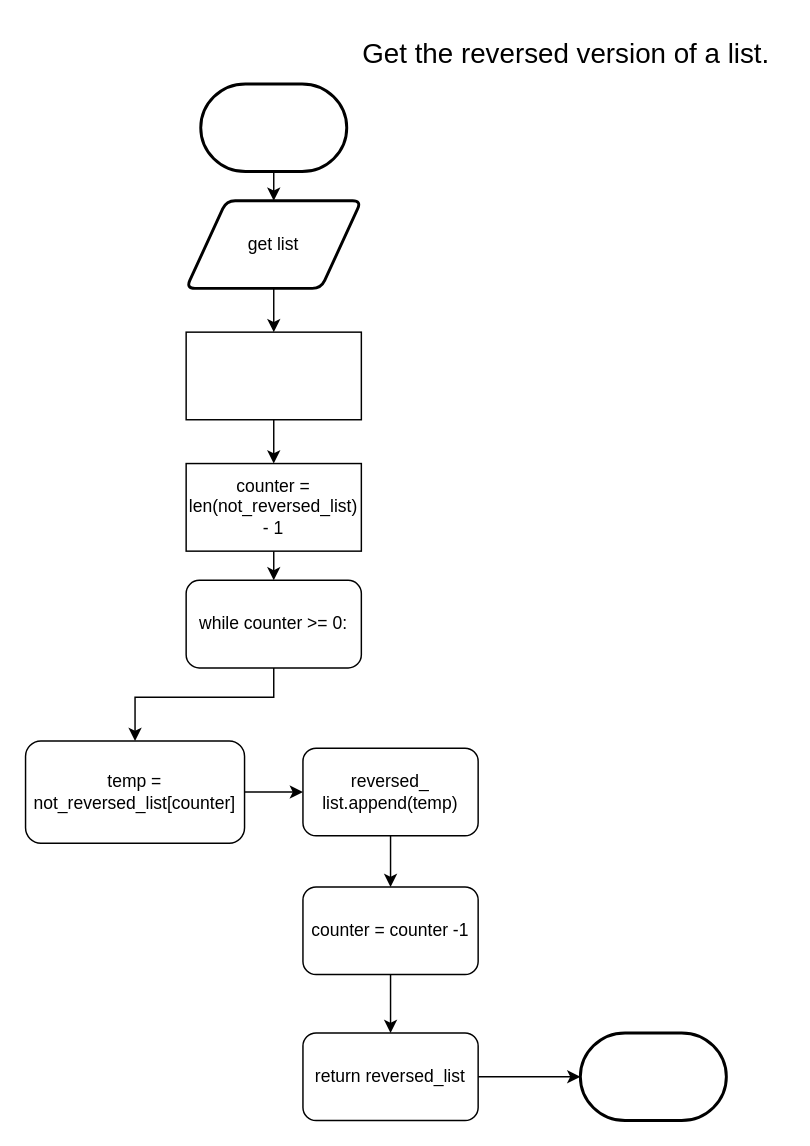
This 810x1146 diagram has some shape labels left out. Here are the shapes that lost their labels. From the top down, the centre of each, then its label:
(273,127): Start
(273,375): reversed_list = [ ]
(652,1076): Stop
